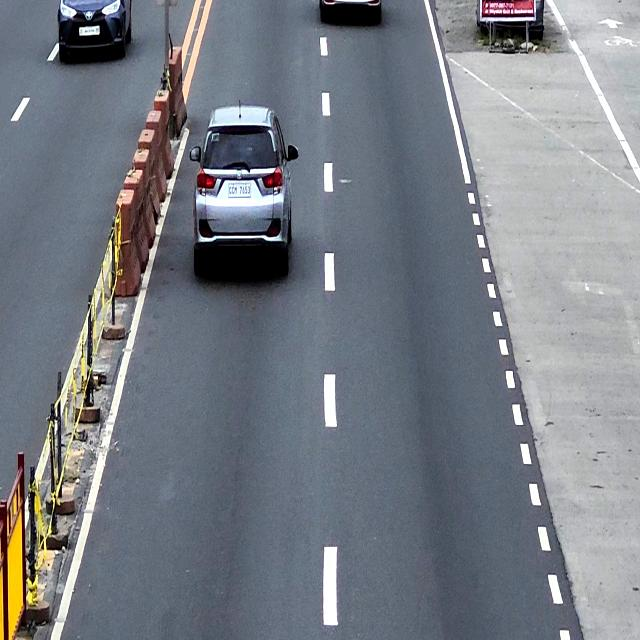Car: (190, 104, 298, 283)
License-Plate: (228, 184, 251, 198)
